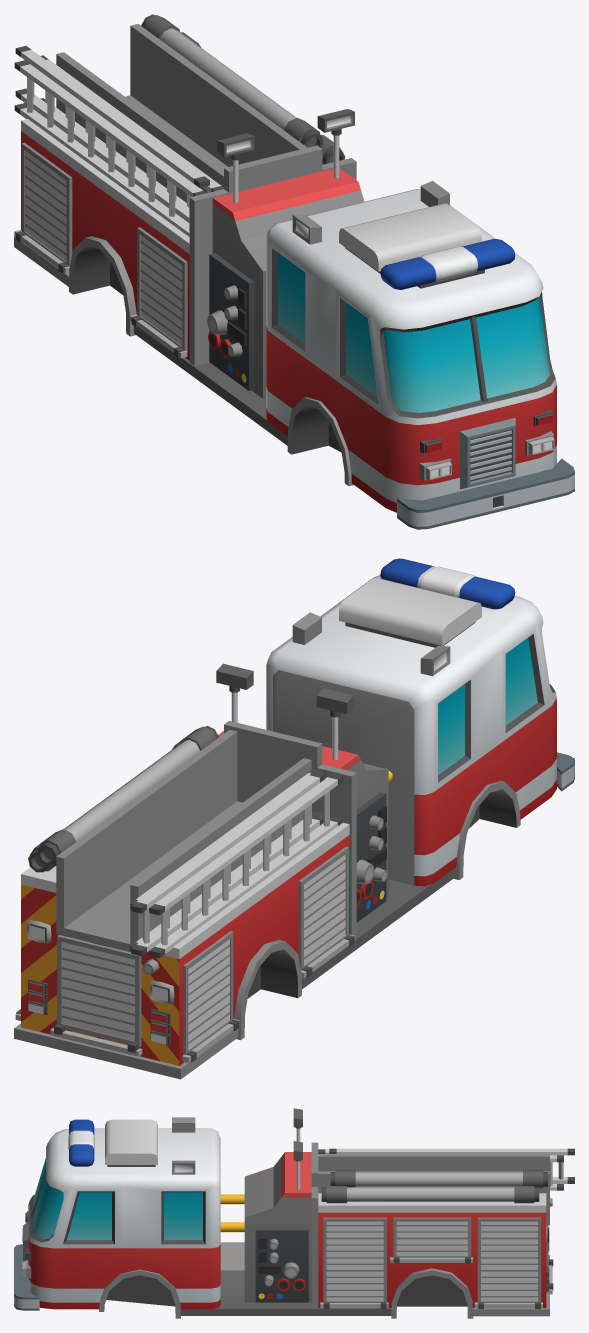
Rendered from fire_truck_001.glb.
The picture shows the model from 3 angles, top to bottom: view 1: azimuth 30°, elevation 25°; view 2: azimuth 150°, elevation 25°; view 3: azimuth 270°, elevation 25°; orthographic projection. The views are drawn at different scales.
Visible parts, largest first — view 1: fire_truck_001; view 2: fire_truck_001; view 3: fire_truck_001.
Boxes of the visible parts, x1=… form: fire_truck_001: x1=14, y1=14, x2=574, y2=529; fire_truck_001: x1=14, y1=558, x2=574, y2=1079; fire_truck_001: x1=14, y1=1108, x2=574, y2=1318.
Size of the model in its own units: 2.73 by 3.57 by 11.26.
Materials: 2 (2 with a texture image).
